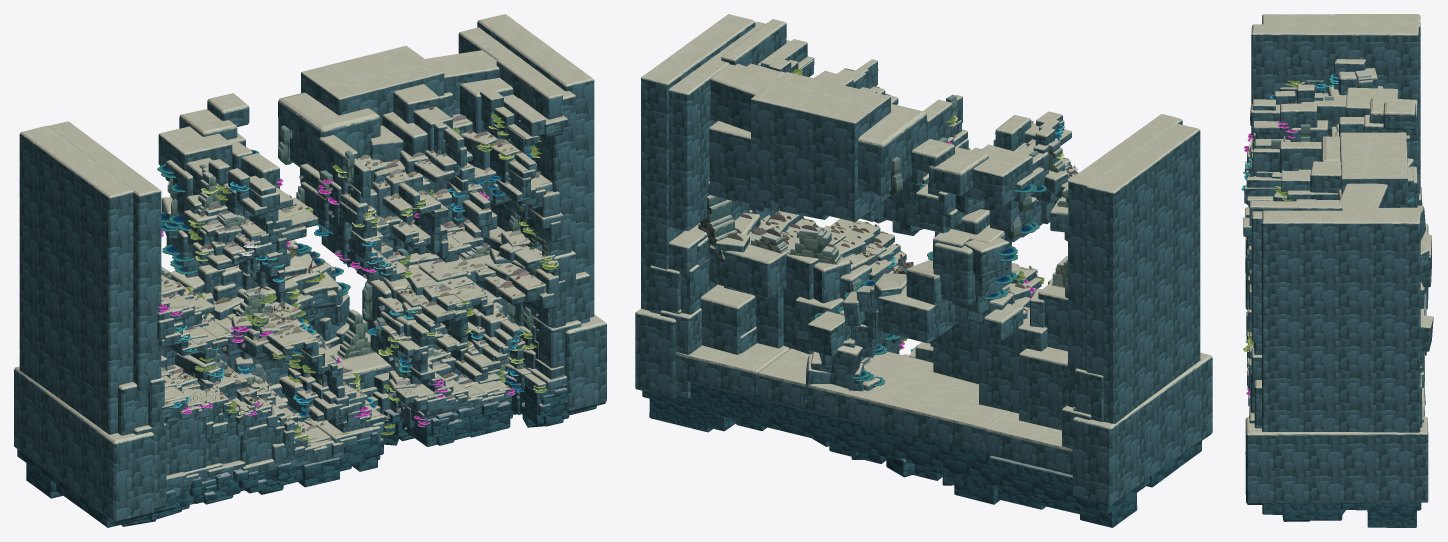
3 renders of one model, left to right at view 1: azimuth 30°, elevation 25°; view 2: azimuth 150°, elevation 25°; view 3: azimuth 270°, elevation 25°, orthographic. The views are drawn at different scales.
Bounding box in the file's own units: 150 × 103 × 57.38.
21 materials, 21 textured.
